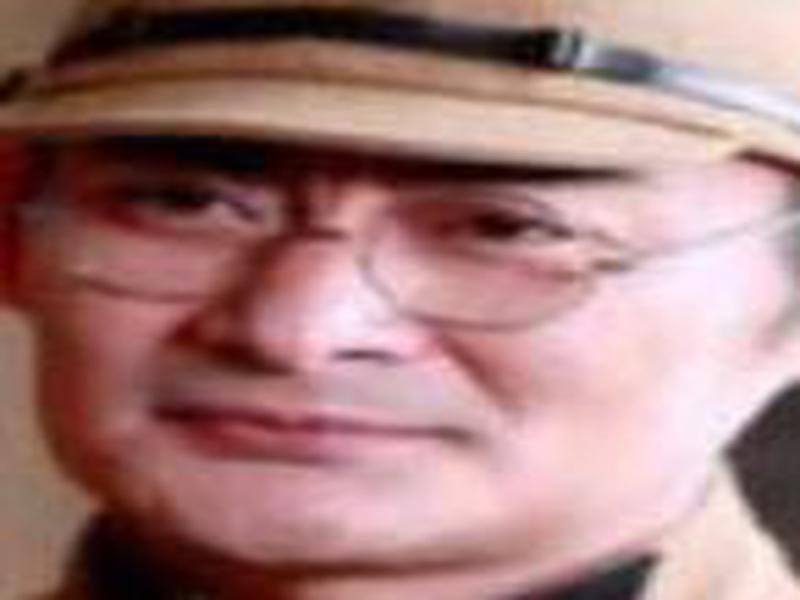without_mask: (29, 133, 753, 572)
